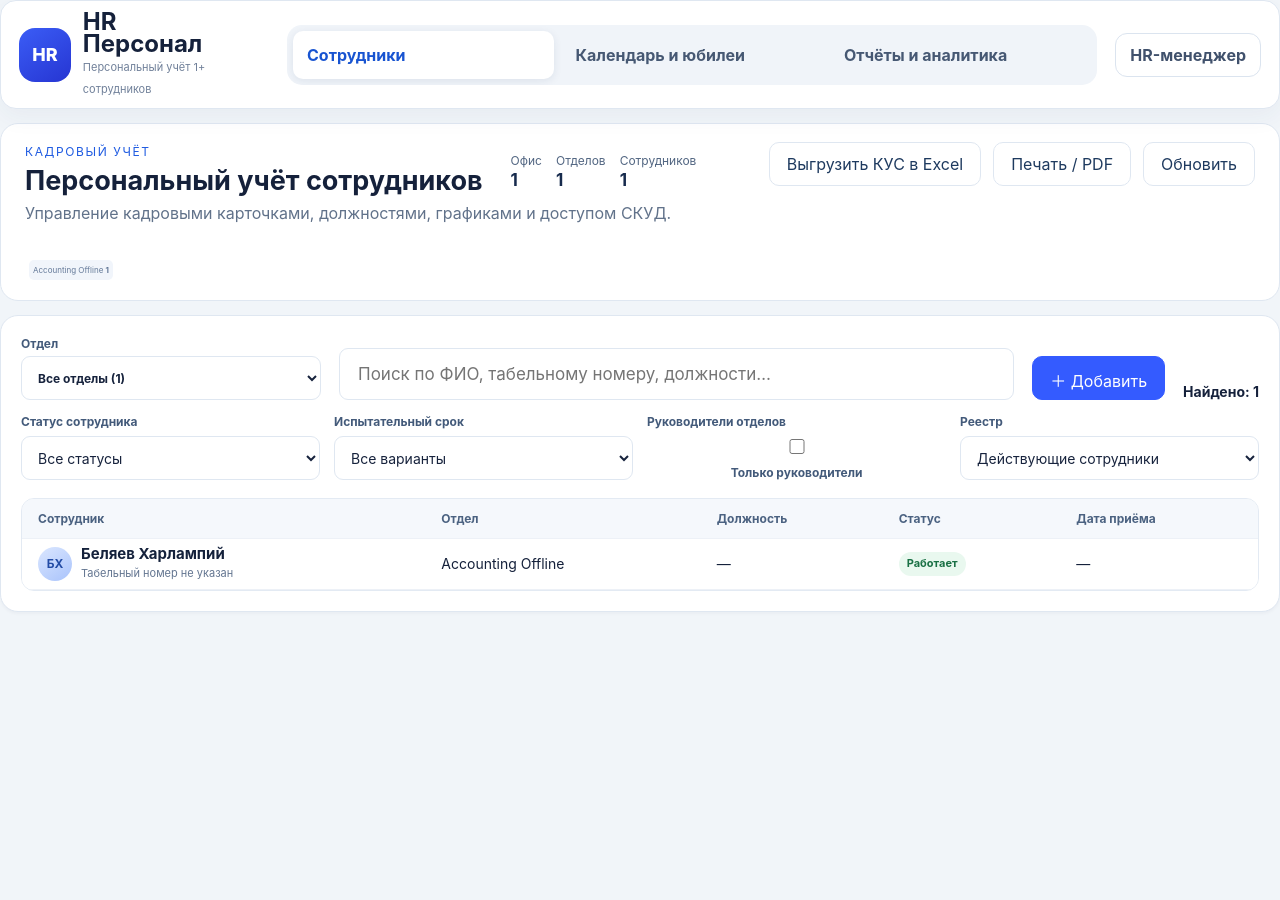
Test: Кадровое рабочее место › позволяет HR добавить сотрудника из реестра
Check: the text "Беляев Харлампий" is shown, box 81,545 -> 233,563
Click the button with aria-label "Добавить сотрудника": (1099, 378) 1032,356 -> 1165,400
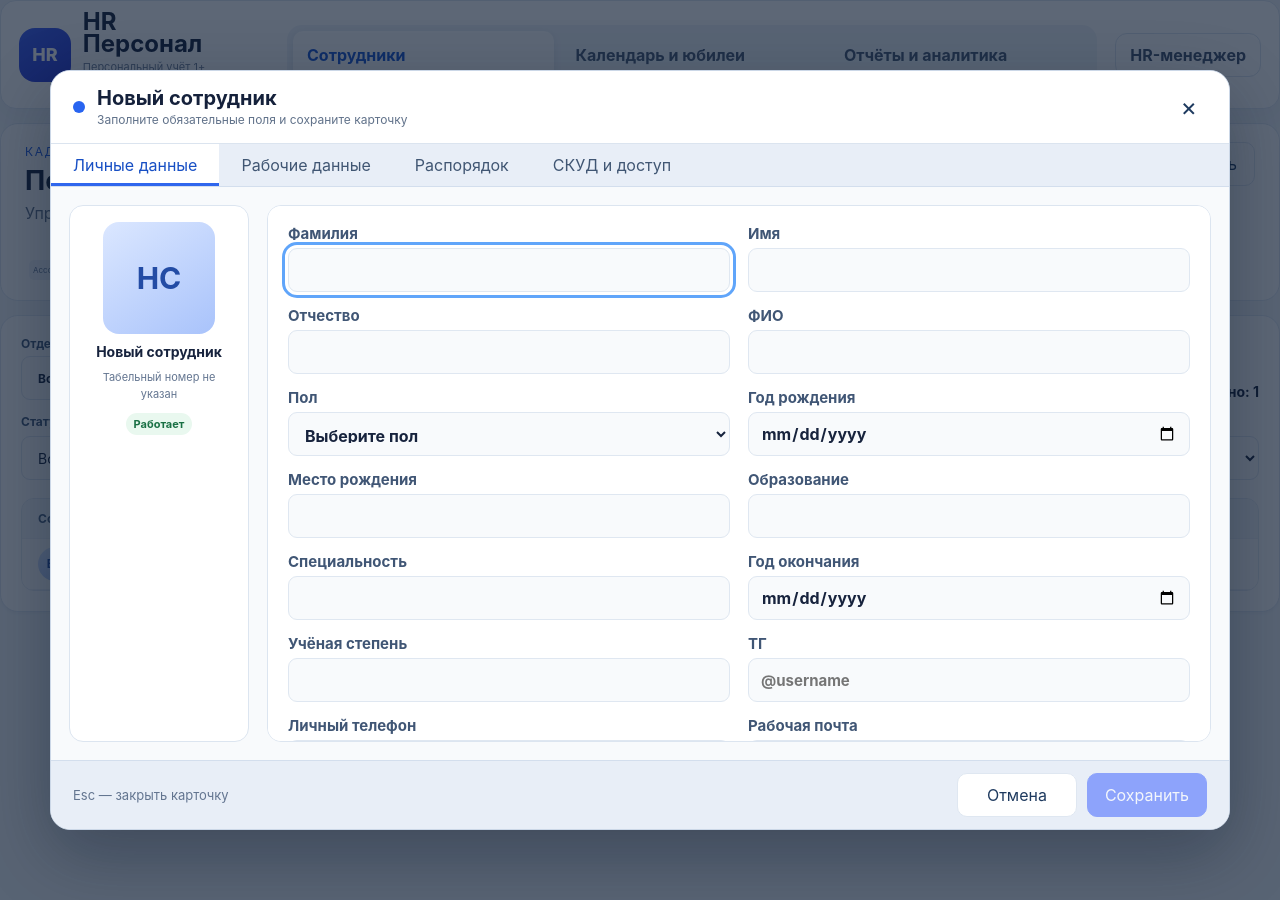
Check: the tab "Личные данные" is shown, box 51,144 -> 219,186
In the field labelled "Фамилия": (509, 270) 288,248 -> 730,292, type "Петров"
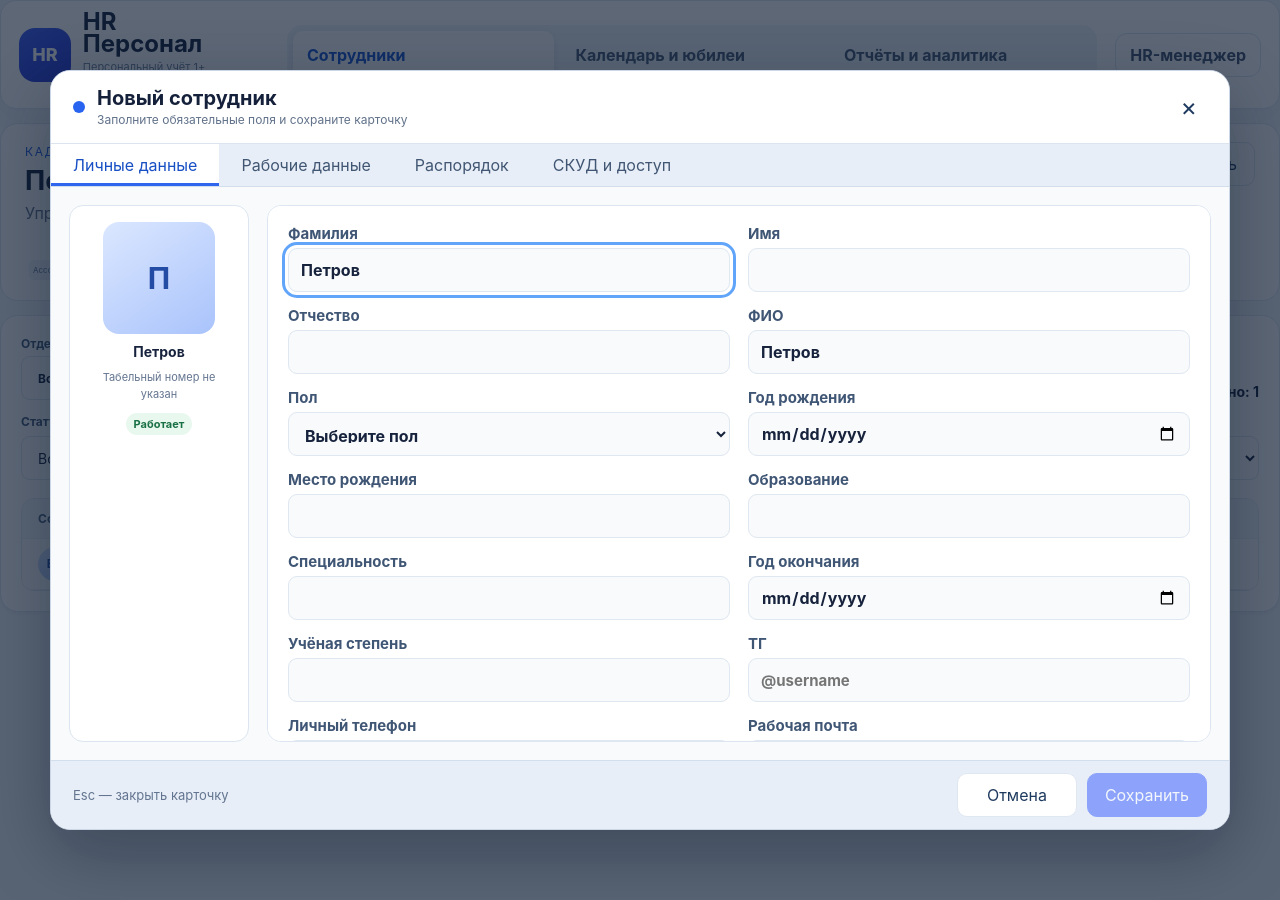
In the field labelled "Имя": (969, 270) 748,248 -> 1190,292, type "Пётр"
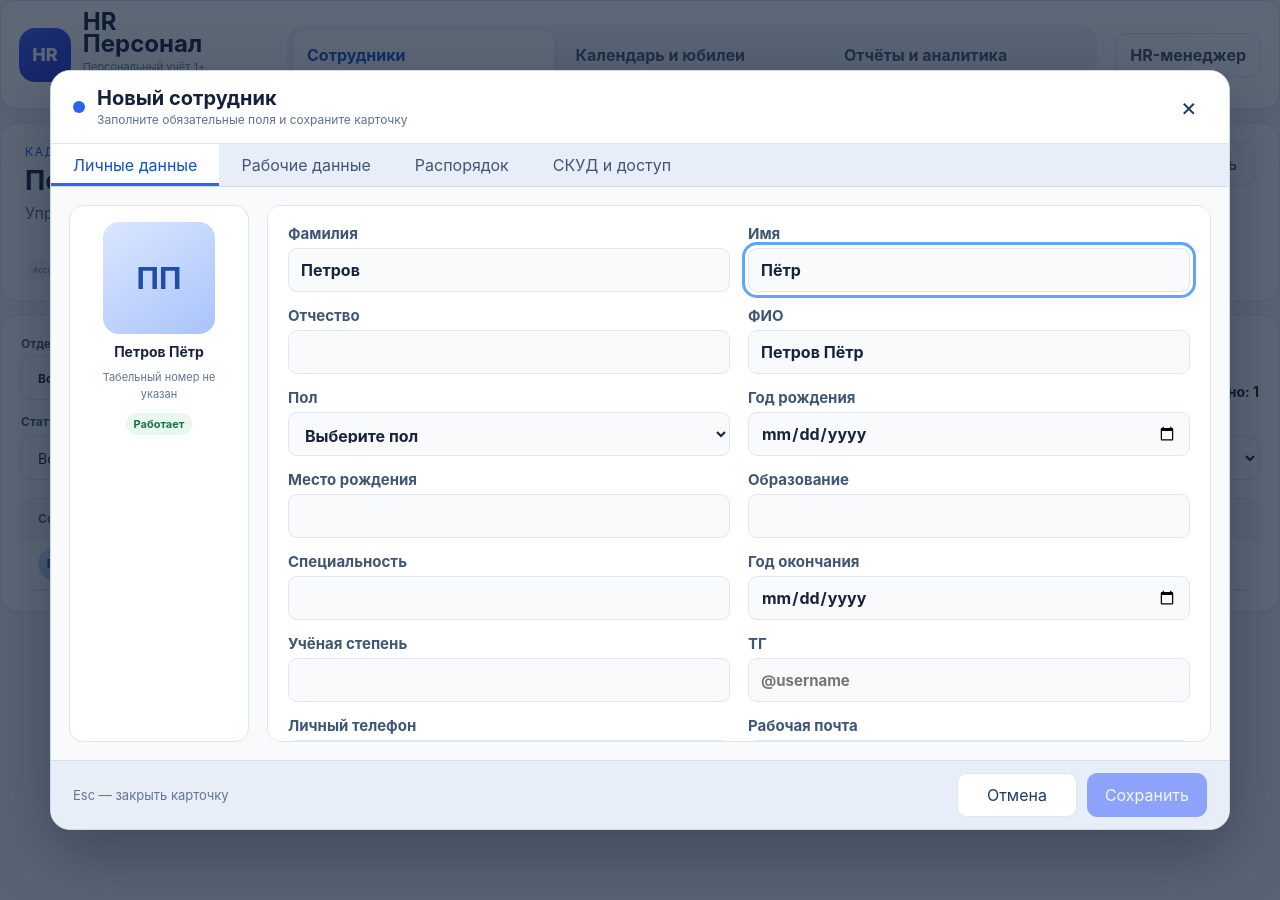
Click the tab "Рабочие данные": (306, 165) 219,144 -> 393,186
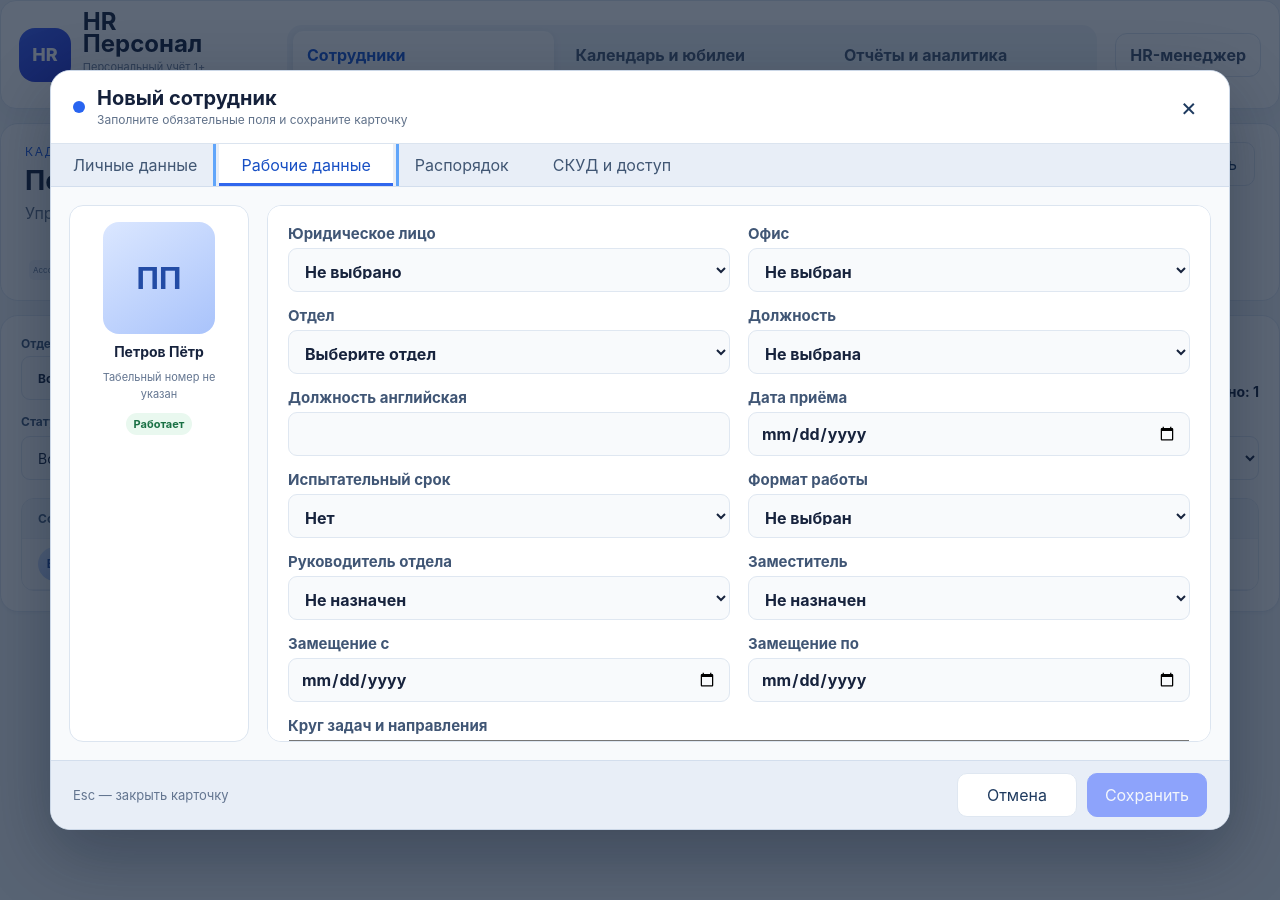
Select "Accounting Offline" in the dropdown labelled "Отдел": (509, 352) 288,330 -> 730,374
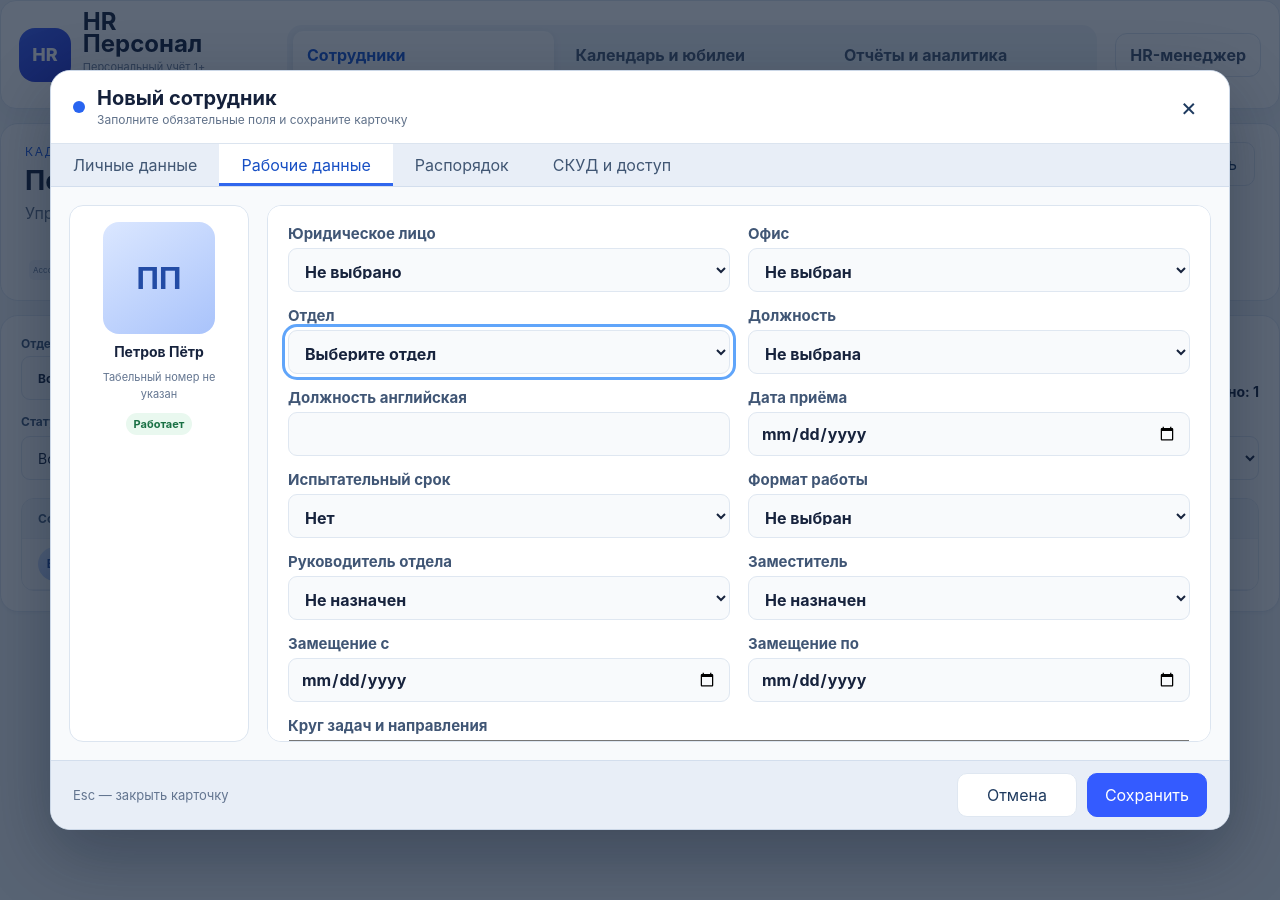
Click the button "Сохранить": (1147, 795) 1087,773 -> 1207,817
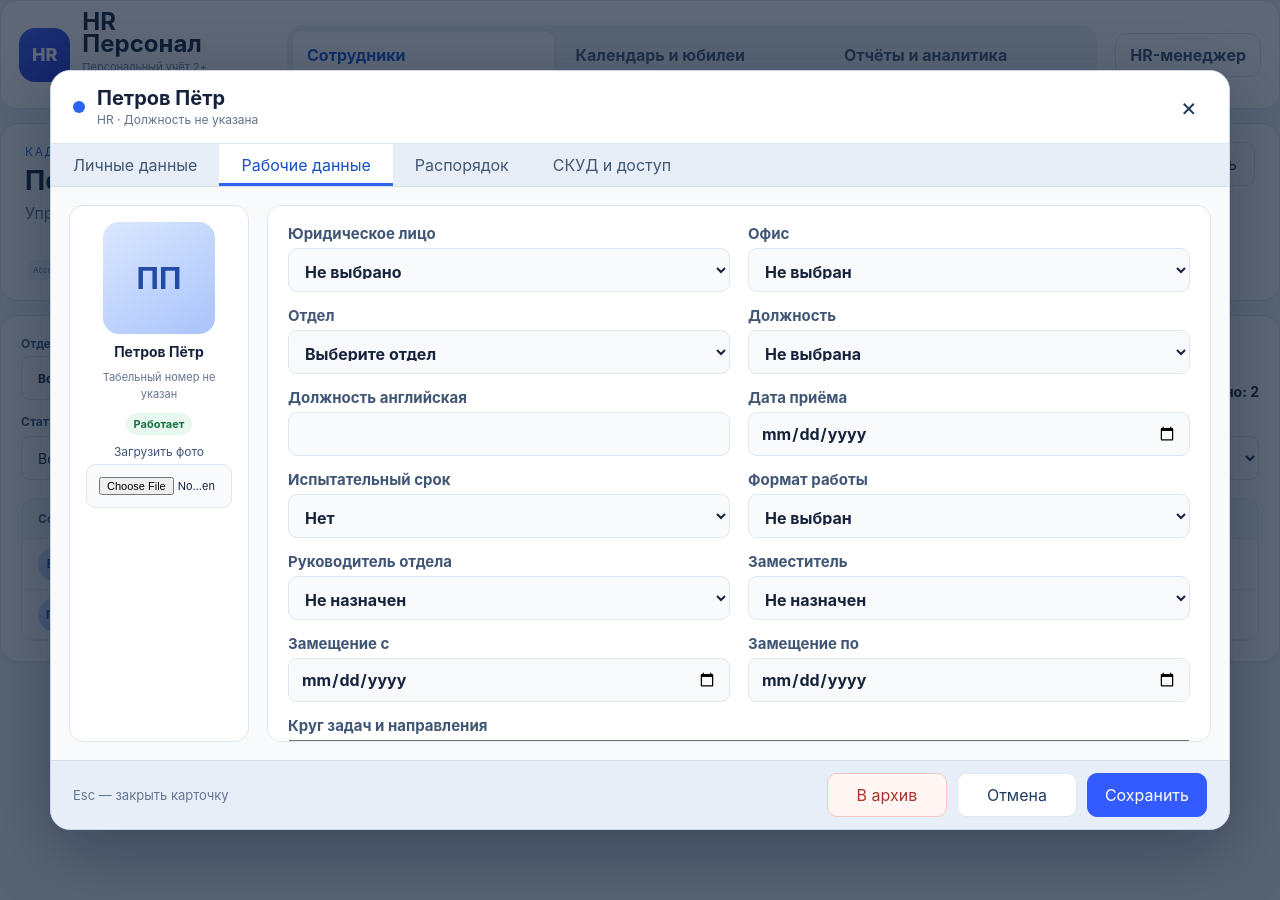
Check: the button "ПП Петров Пётр Табельный номер не указан" is shown, box 38,596 -> 233,633
